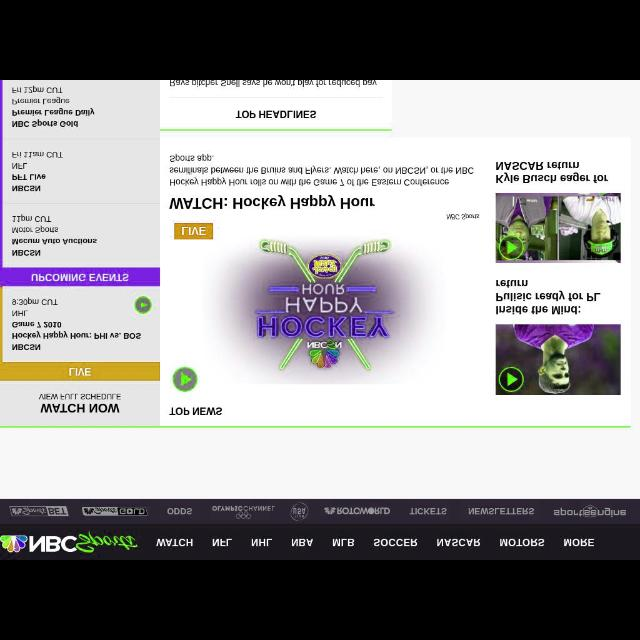image: (172, 224, 472, 392), (496, 193, 622, 263), (496, 324, 620, 394), (2, 530, 138, 552), (554, 504, 628, 518), (212, 506, 276, 518), (324, 506, 392, 516), (82, 506, 148, 516), (9, 506, 69, 516), (289, 502, 309, 522), (134, 296, 152, 314)
multitab: (1, 499, 640, 523), (156, 535, 596, 549)
text: (170, 154, 476, 186), (496, 279, 602, 315), (12, 86, 96, 128), (170, 194, 374, 210), (496, 160, 610, 183), (40, 392, 122, 413), (170, 80, 378, 88), (11, 238, 97, 256), (12, 330, 142, 340), (30, 272, 130, 282), (235, 108, 317, 120), (12, 298, 58, 316), (12, 214, 58, 232), (12, 174, 46, 192), (169, 406, 223, 416), (12, 320, 62, 328), (468, 508, 534, 514), (12, 152, 62, 158), (446, 212, 479, 220), (409, 508, 449, 514), (69, 368, 91, 377), (12, 344, 40, 351), (168, 508, 192, 514), (12, 162, 28, 170)
